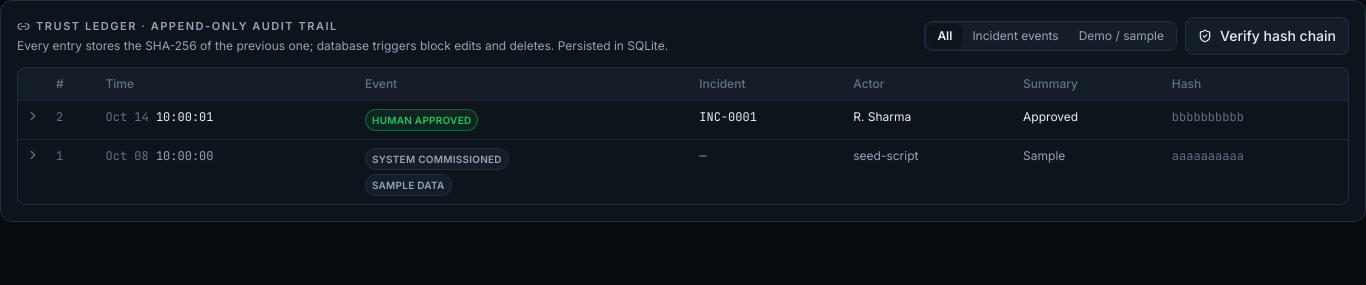
Test: TrustLedger › verifies the hash chain on demand
Click the button "Verify hash chain" at (1267, 36), box left=1185, top=17, right=1349, bottom=55
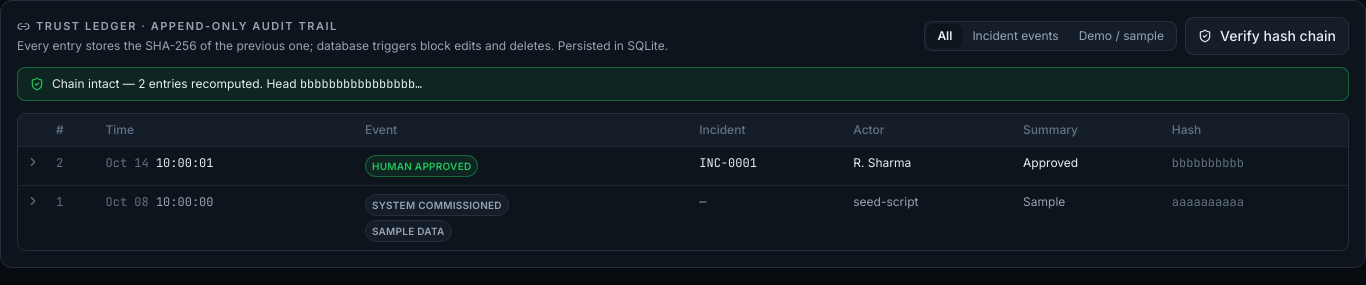
Expected: the message shows "Chain intact", left=52, top=76, right=138, bottom=91
